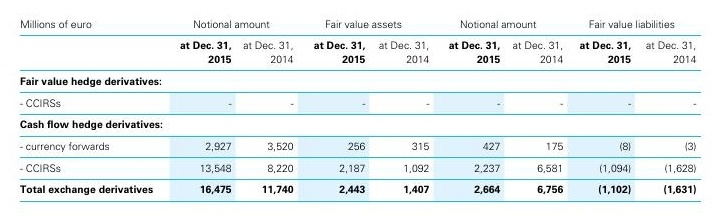table: (0, 0, 720, 218)
